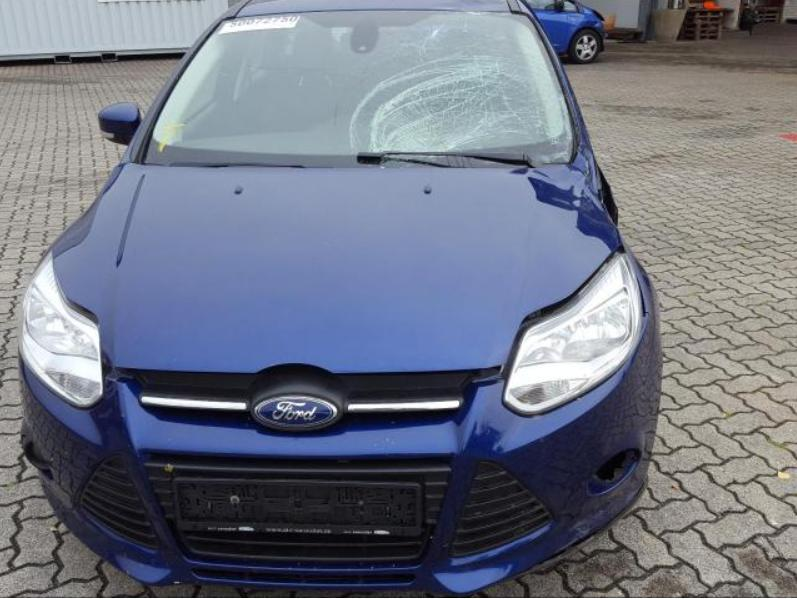Front-bumper: (18, 253, 662, 595)
Grille: (136, 458, 452, 573), (451, 463, 551, 566), (76, 463, 163, 548)
Headlight: (502, 244, 645, 416), (17, 248, 104, 407)
Hood: (51, 161, 621, 374)
License-plate: (172, 478, 422, 534)
Mirror: (99, 102, 141, 134)
Roof: (226, 0, 528, 17)
Windshield: (140, 10, 578, 168)
